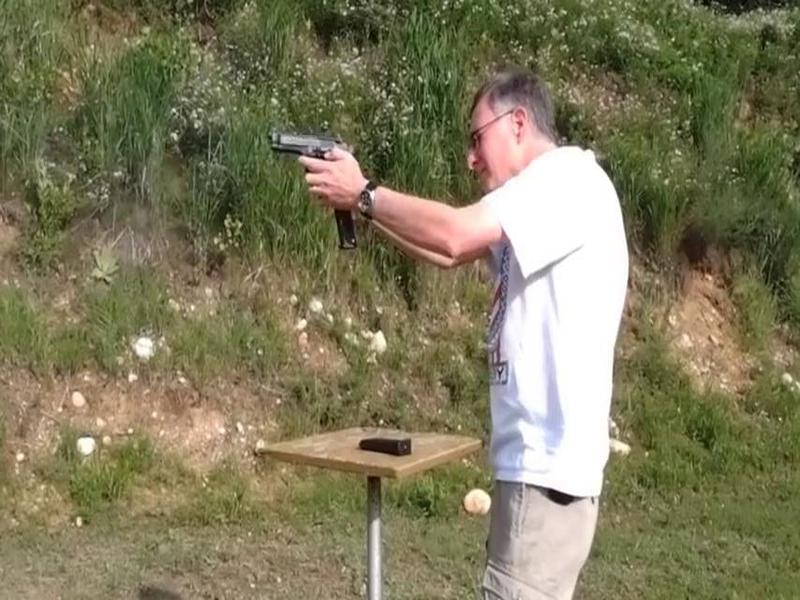Pistola: (245, 107, 365, 209)
